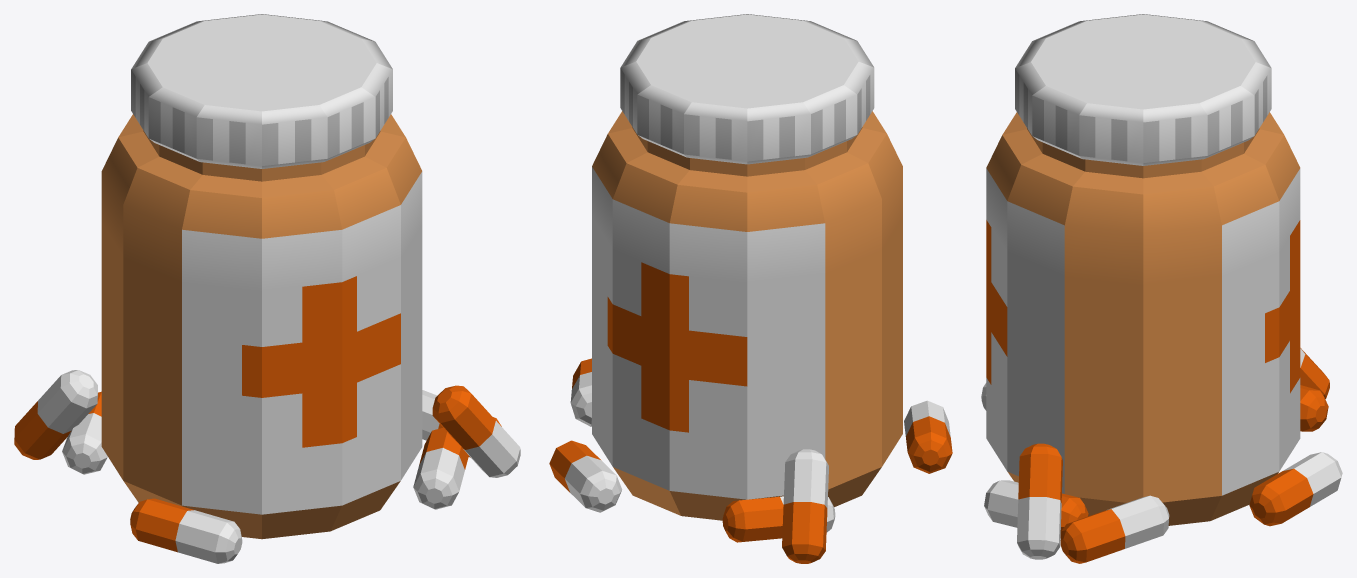
Rendered from pillBottle.fbx.
The picture shows the model from 3 angles, left to right: view 1: azimuth 30°, elevation 25°; view 2: azimuth 150°, elevation 25°; view 3: azimuth 270°, elevation 25°; orthographic projection. The views are drawn at different scales.
Visible parts, largest first — view 1: pillBottle; view 2: pillBottle; view 3: pillBottle.
Part boxes in pixels (left/top/right/bottom): pillBottle: left=14, top=14, right=520, bottom=563; pillBottle: left=549, top=14, right=952, bottom=563; pillBottle: left=981, top=14, right=1342, bottom=563.
Bounding box in the file's own units: 2.72 × 2.9 × 2.3.
